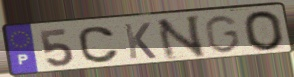5: (37, 27, 76, 69)
C: (76, 25, 122, 65)
G: (202, 13, 242, 54)
K: (122, 21, 159, 61)
N: (154, 13, 208, 62)
O: (241, 9, 287, 53)
